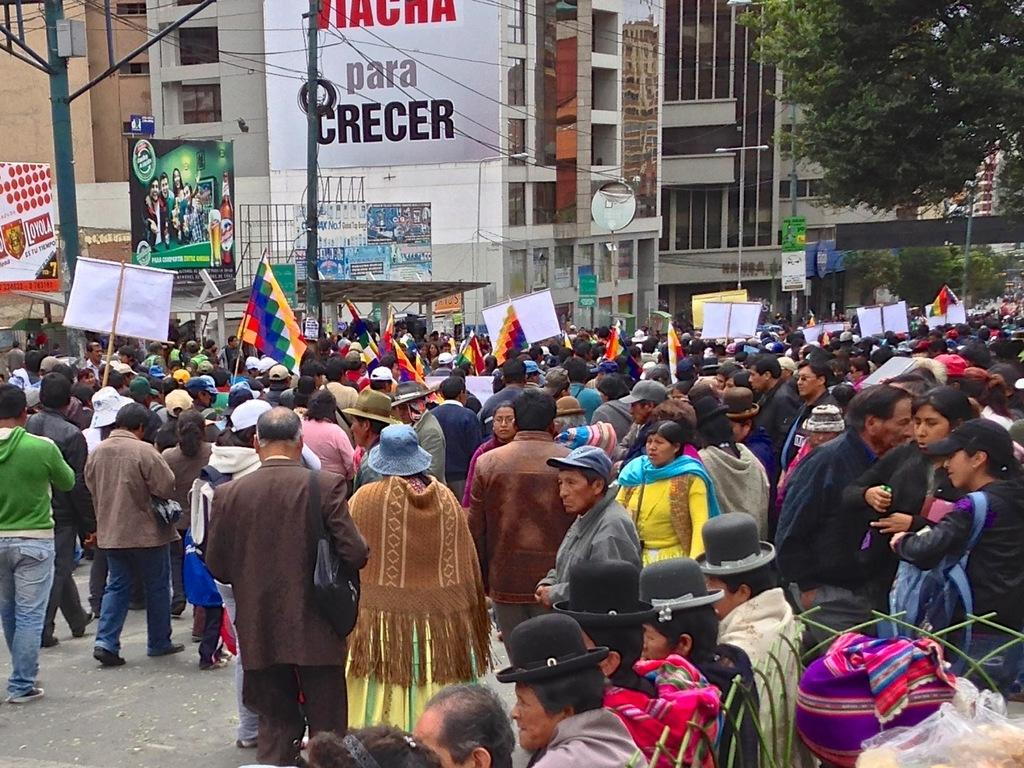Hat: (3, 316, 1023, 680)
